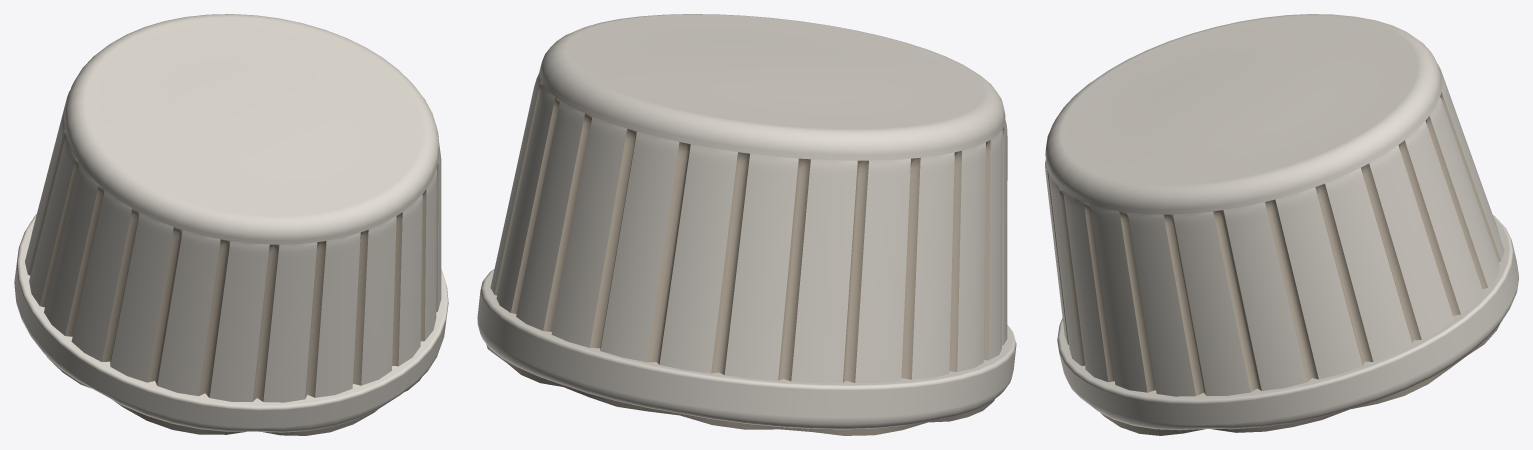
Rendered from Cosmetic_Toothpaste_Cap.glb.
3 views of the same model, side by side, from view 1: azimuth 30°, elevation 25°; view 2: azimuth 150°, elevation 25°; view 3: azimuth 270°, elevation 25° (orthographic). The views are drawn at different scales.
Visible parts, largest first — view 1: Cosmetic_Toothpaste_Cap; view 2: Cosmetic_Toothpaste_Cap; view 3: Cosmetic_Toothpaste_Cap.
Part boxes in pixels (x1,y1,x2,y2): Cosmetic_Toothpaste_Cap: (14,14,448,435); Cosmetic_Toothpaste_Cap: (477,14,1016,435); Cosmetic_Toothpaste_Cap: (1045,14,1518,435).
Bounding box in the file's own units: 0.75 × 0.5557 × 0.7617.
